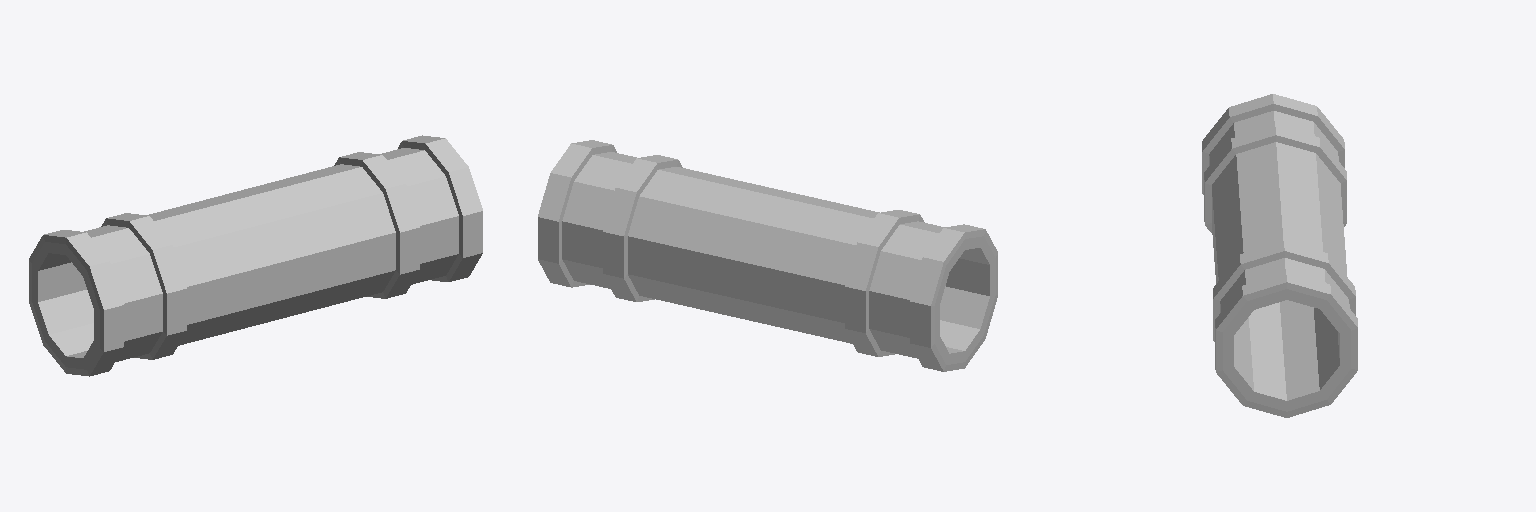
The model's file is tuberia.OBJ.
3 renders of one model, left to right at view 1: azimuth 30°, elevation 25°; view 2: azimuth 150°, elevation 25°; view 3: azimuth 270°, elevation 25°, orthographic.
Visible parts, largest first — view 1: Group43862; view 2: Group43862; view 3: Group43862.
Part boxes in pixels (bbox=[...]): Group43862: bbox=[29, 135, 482, 376]; Group43862: bbox=[538, 140, 997, 371]; Group43862: bbox=[1202, 94, 1357, 417].
Bounding box in the file's own units: 4.05 × 1.35 × 1.41.